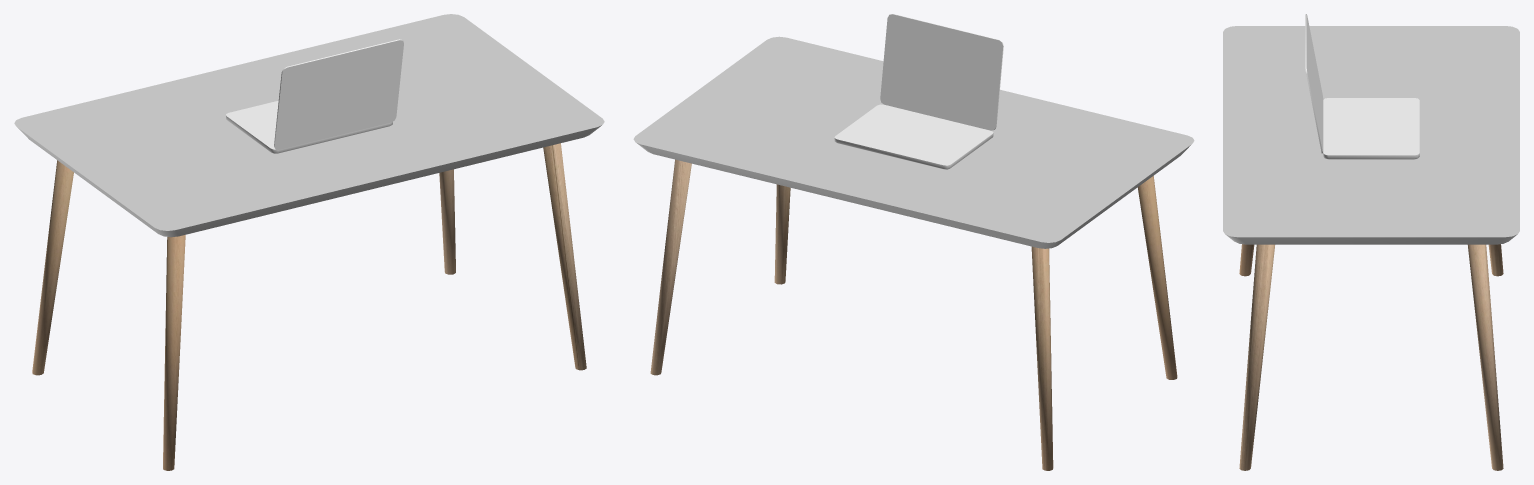
File: Desk.glb
3 views of the same model, side by side, from view 1: azimuth 30°, elevation 25°; view 2: azimuth 150°, elevation 25°; view 3: azimuth 270°, elevation 25° (orthographic). The views are drawn at different scales.
Parts seen in each view (by area): view 1: Desk_Top, Desk_Legs, Laptop_Screen, Laptop_Base; view 2: Desk_Top, Laptop_Screen, Desk_Legs, Laptop_Base; view 3: Desk_Top, Desk_Legs, Laptop_Base, Laptop_Screen.
Part boxes in pixels (x1,y1,x2,y2): Desk_Top: (14, 14, 604, 237); Desk_Legs: (32, 143, 586, 470); Laptop_Screen: (274, 39, 403, 149); Laptop_Base: (226, 100, 392, 153); Desk_Top: (633, 36, 1194, 248); Laptop_Screen: (880, 14, 1003, 130); Desk_Legs: (650, 159, 1177, 470); Laptop_Base: (834, 104, 993, 169); Desk_Top: (1223, 26, 1519, 244); Desk_Legs: (1239, 244, 1503, 470); Laptop_Base: (1323, 98, 1419, 159); Laptop_Screen: (1305, 14, 1323, 153).
Size of the model in its own units: 1.49 by 1.09 by 0.8853.
3 materials, 1 textured.
